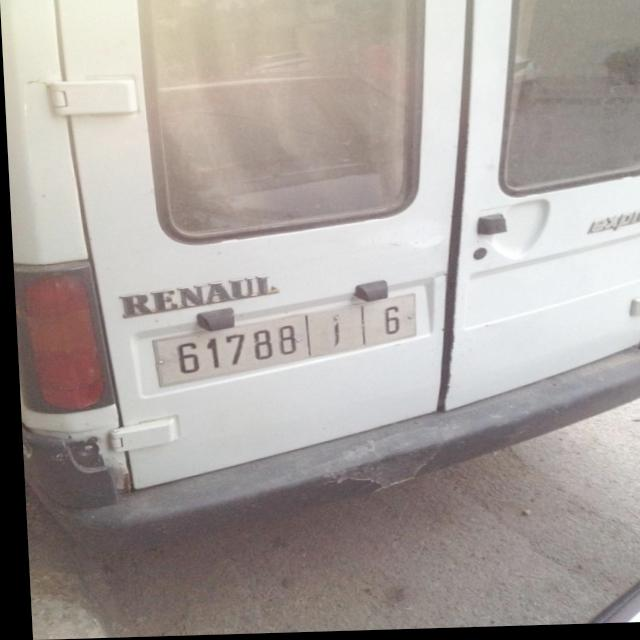License-Plate: (149, 297, 412, 386)
